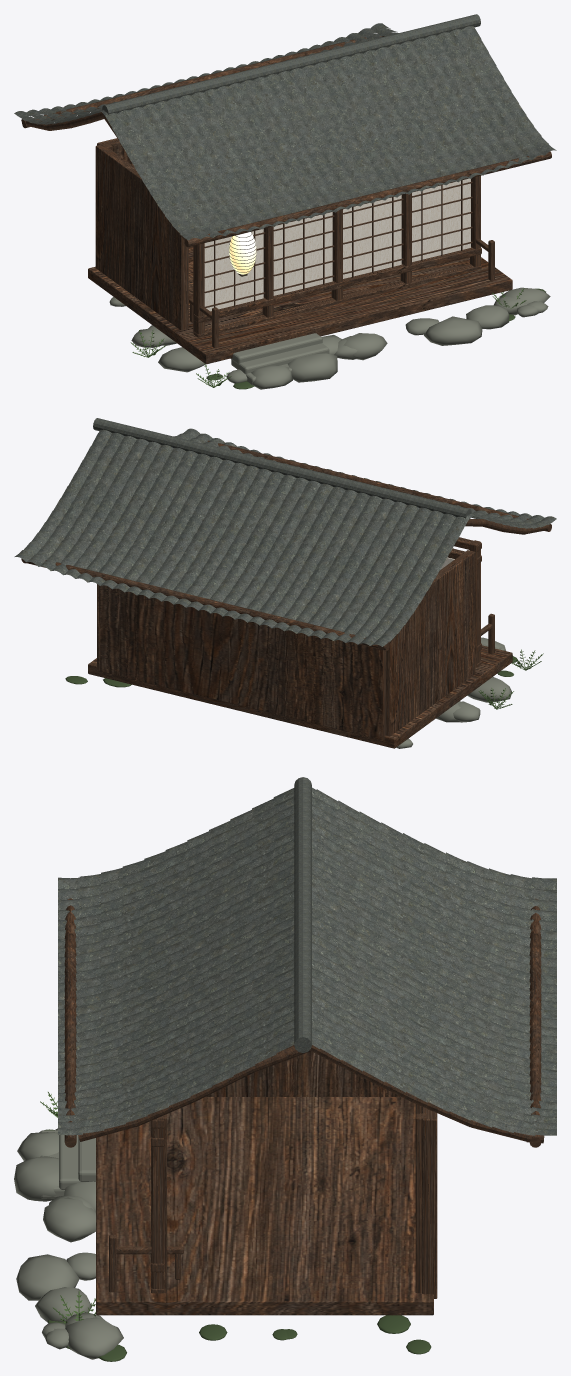
File: japanese-lantern-house-v5.glb
3 renders of one model, top to bottom at view 1: azimuth 30°, elevation 25°; view 2: azimuth 150°, elevation 25°; view 3: azimuth 270°, elevation 25°, orthographic. The views are drawn at different scales.
Parts seen in each view (by area): view 1: Agedjadeclaytiles, Weatheredcedar, Shojipaper, Weatheredfoundationstone, LanternPaper, Fernfoliage; view 2: Agedjadeclaytiles, Weatheredcedar, Weatheredfoundationstone, Fernfoliage, Deepmoss; view 3: Agedjadeclaytiles, Weatheredcedar, Weatheredfoundationstone, Deepmoss.
Part boxes in pixels (box(x1,y1,x2,y2)): Agedjadeclaytiles: box(14, 14, 556, 240); Weatheredcedar: box(21, 33, 551, 364); Shojipaper: box(204, 178, 470, 311); Weatheredfoundationstone: box(109, 287, 550, 389); LanternPaper: box(229, 232, 256, 274); Fernfoliage: box(130, 288, 526, 387); Agedjadeclaytiles: box(14, 418, 556, 646); Weatheredcedar: box(21, 440, 551, 748); Weatheredfoundationstone: box(396, 637, 511, 748); Fernfoliage: box(478, 649, 543, 709); Deepmoss: box(65, 656, 516, 687); Agedjadeclaytiles: box(58, 777, 556, 1135); Weatheredcedar: box(64, 898, 544, 1315); Weatheredfoundationstone: box(14, 1128, 123, 1359); Deepmoss: box(39, 1129, 431, 1361).
Size of the model in its own units: 7.44 by 4.38 by 6.42.
8 materials, 4 textured.
